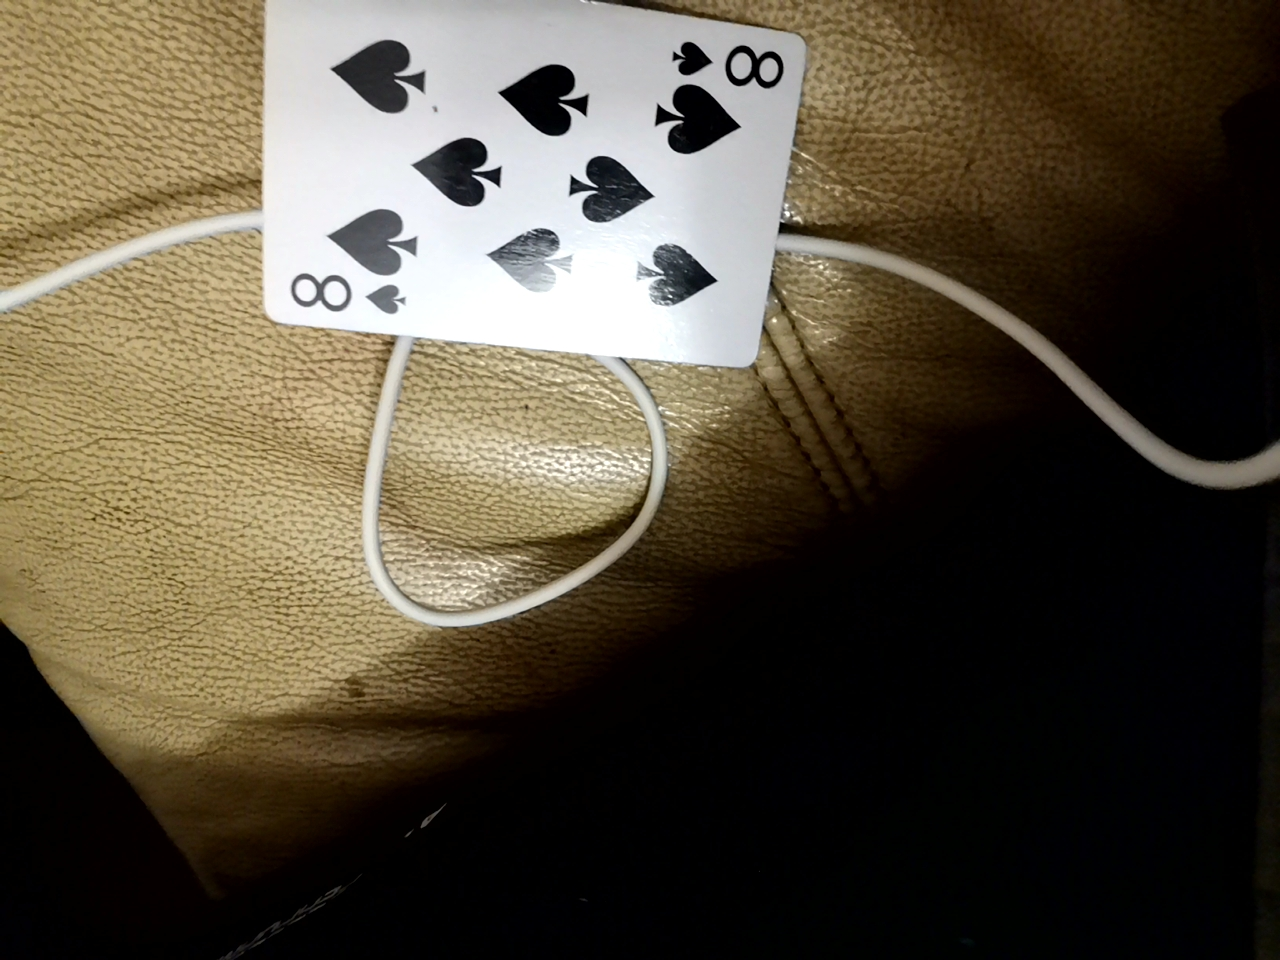ht 8: (248, 0, 809, 369)
